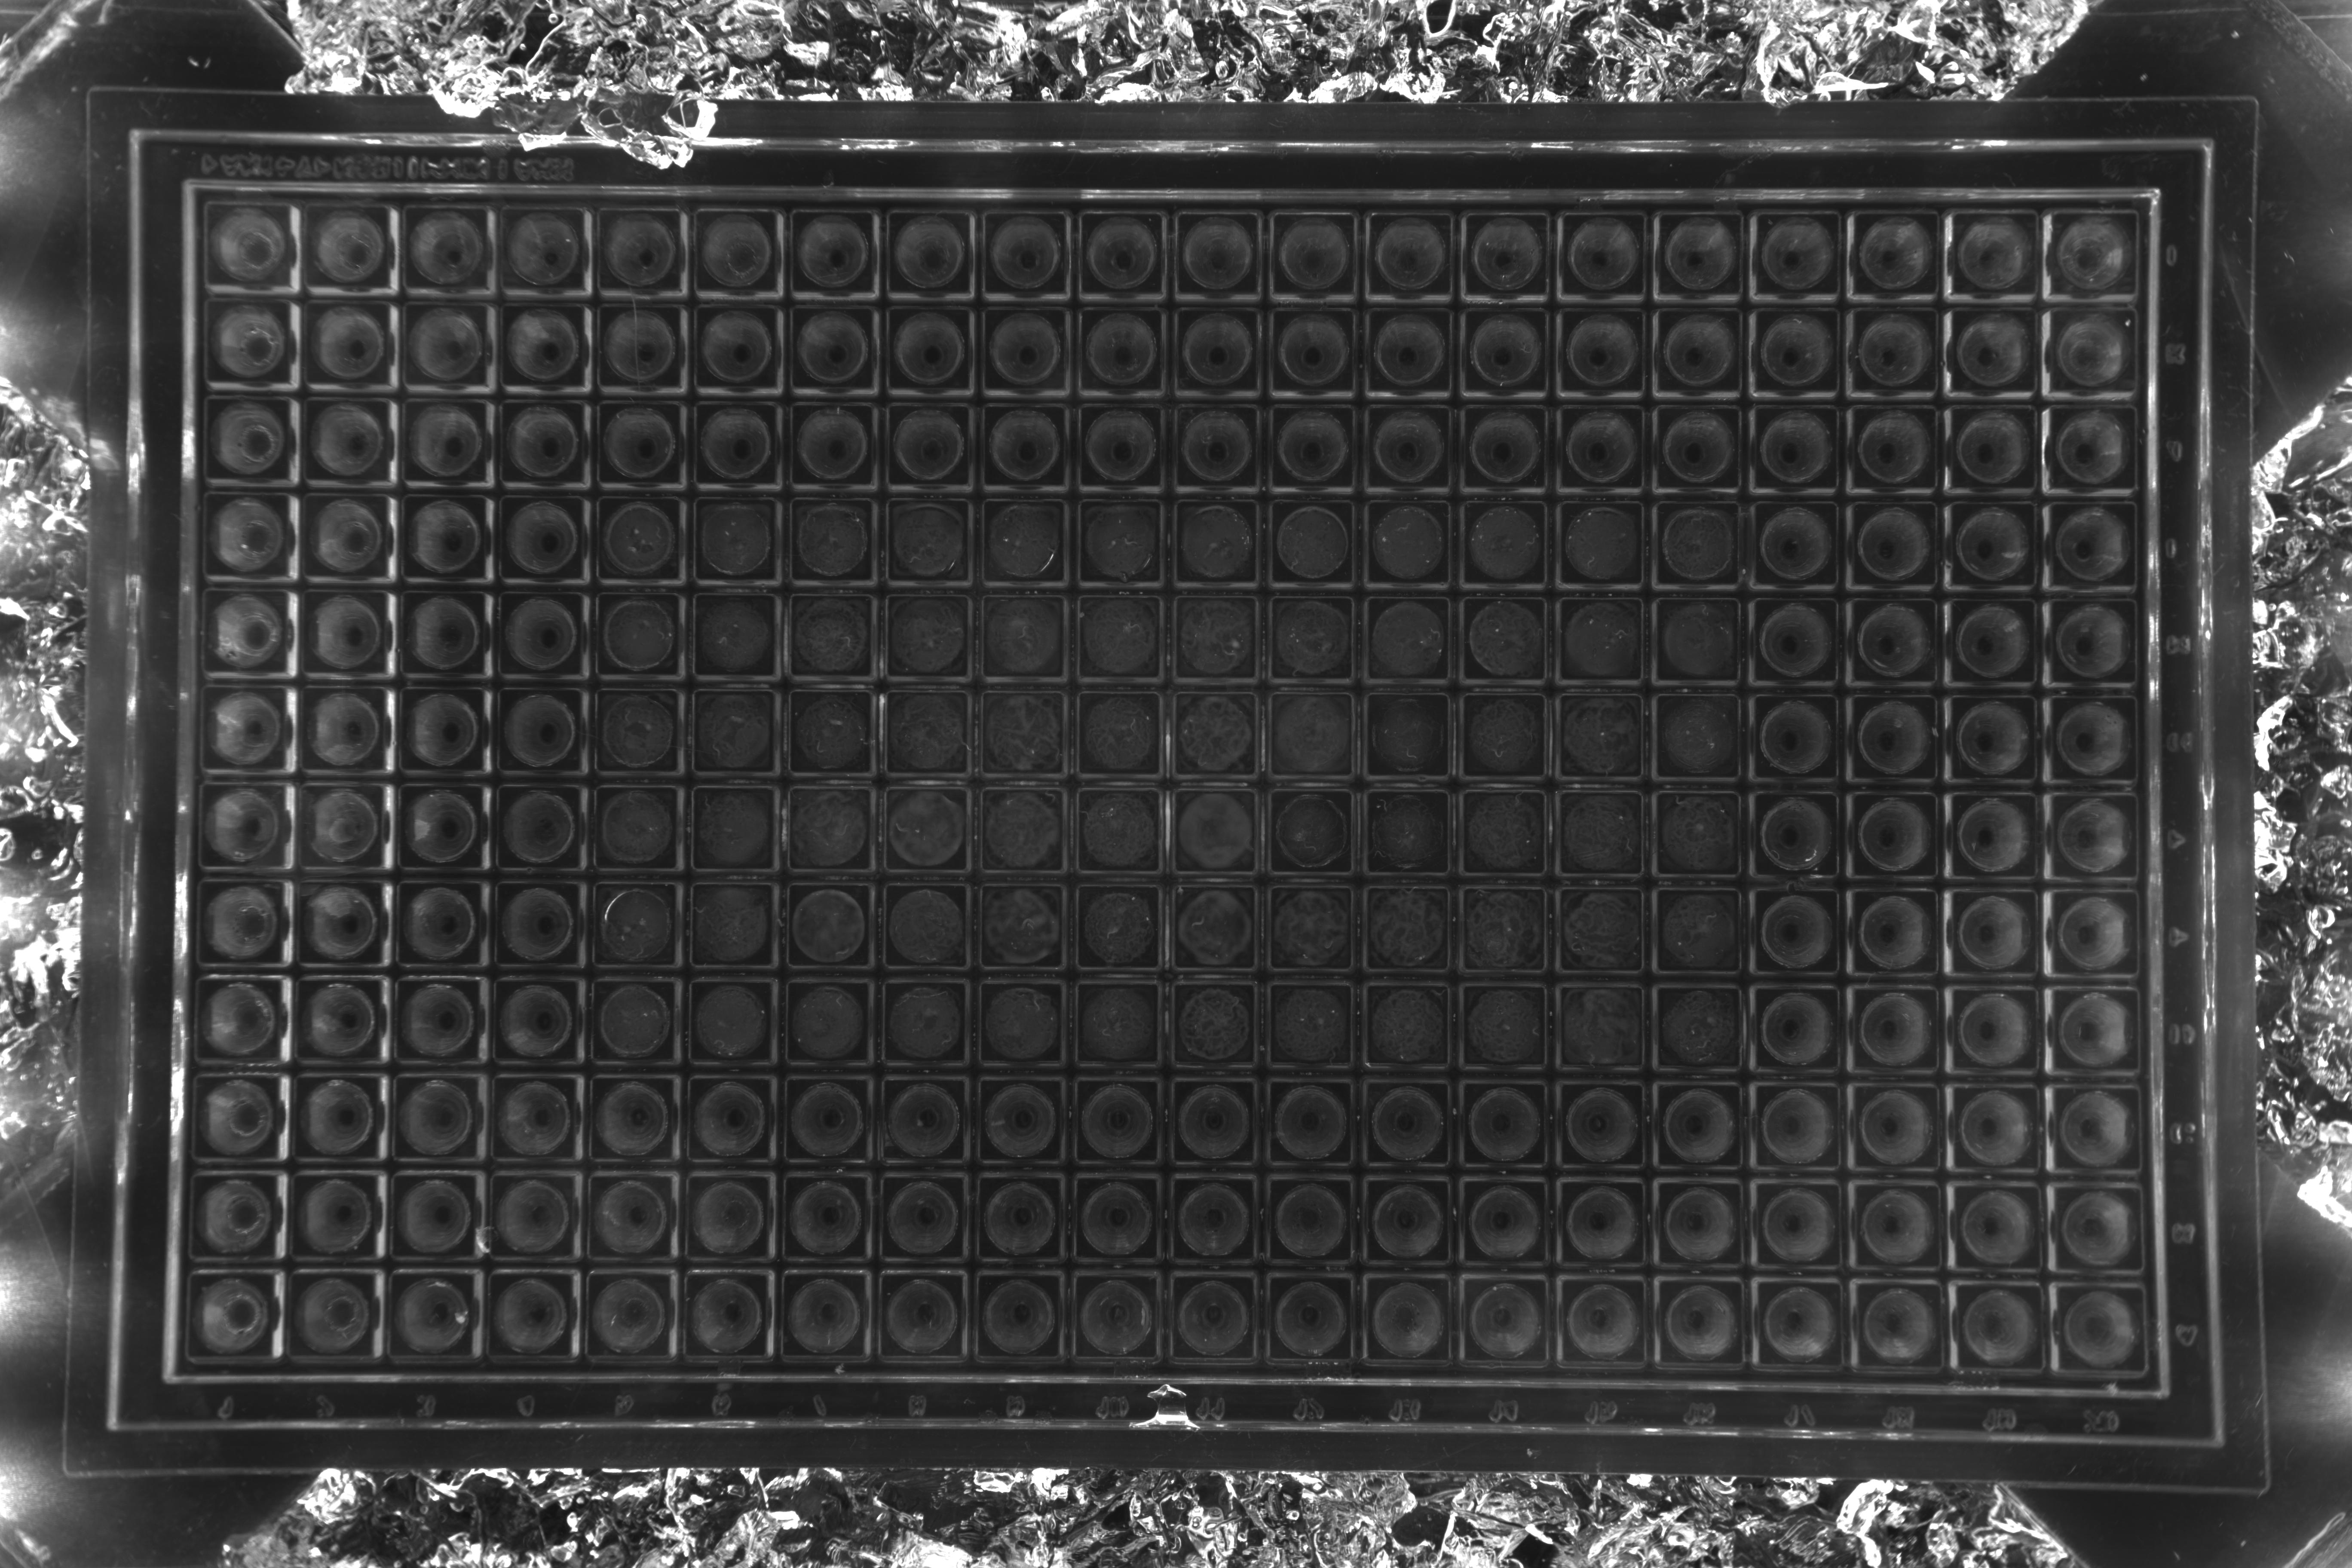WM_well: (497, 362, 586, 450), (497, 653, 586, 740), (689, 947, 779, 1034), (205, 360, 292, 448), (303, 264, 390, 352), (390, 1242, 478, 1330), (497, 749, 584, 836), (593, 847, 681, 934), (595, 556, 682, 644), (887, 752, 975, 840), (1080, 464, 1167, 551), (1080, 754, 1167, 842), (1274, 1241, 1361, 1328), (1370, 850, 1458, 938), (1466, 850, 1554, 938), (1564, 656, 1652, 744), (1568, 1244, 1655, 1332), (1662, 852, 1750, 940), (1664, 950, 1752, 1038), (1760, 658, 1848, 745), (1857, 268, 1944, 355), (1956, 560, 2044, 647)
